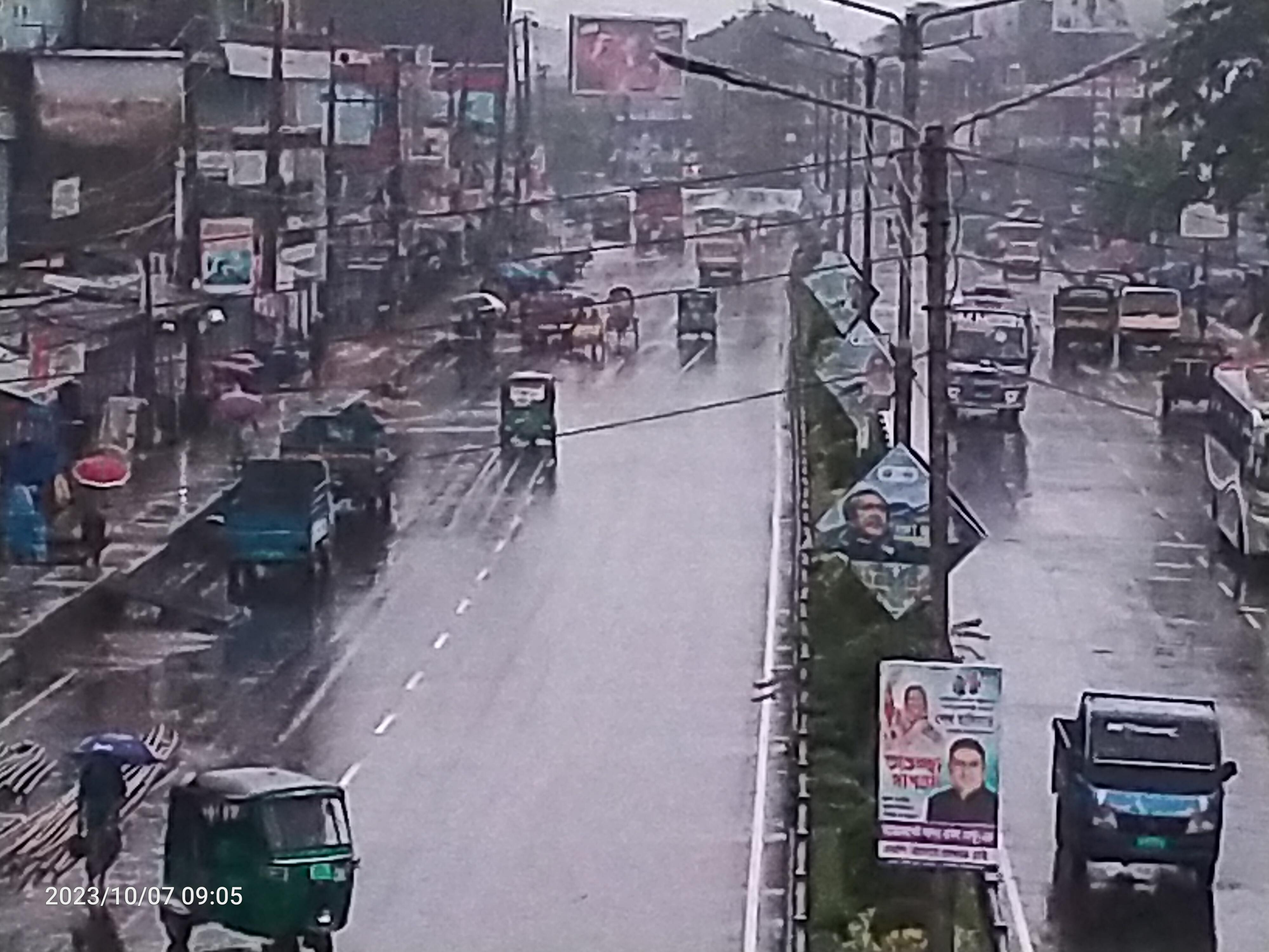Bus: (1159, 338, 1269, 572), (917, 273, 1051, 452)
Car: (591, 278, 650, 364)
Truck: (1021, 657, 1263, 934), (193, 438, 352, 588), (275, 374, 400, 544), (1042, 267, 1124, 372)
